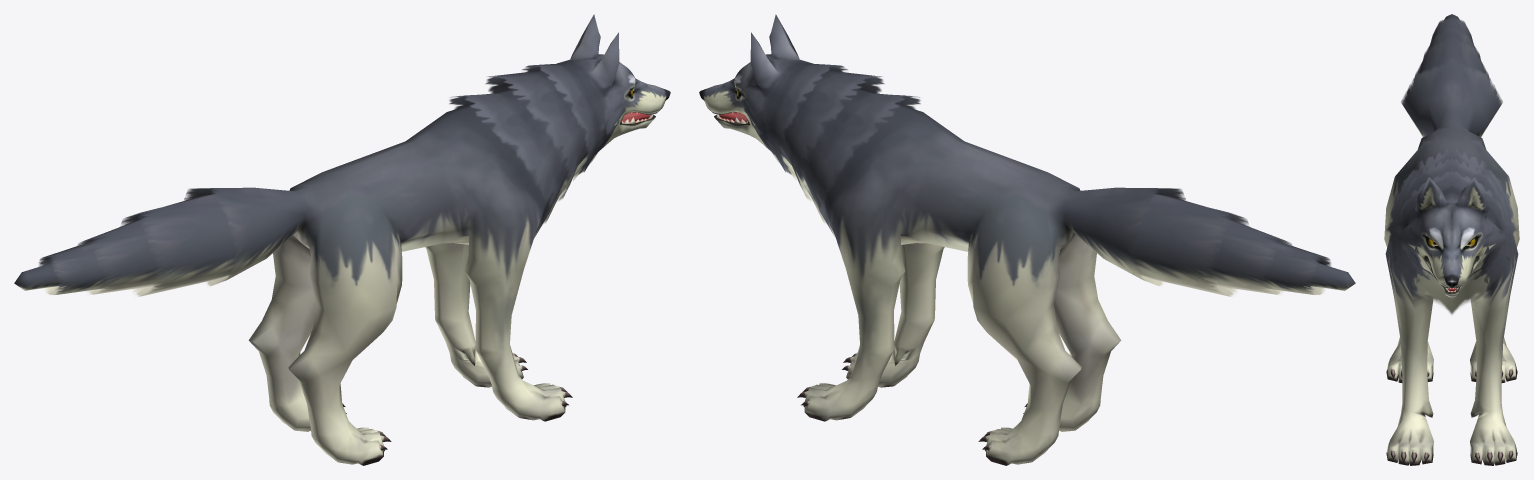
File: vlk_lesni.glb
3 renders of one model, left to right at view 1: azimuth 30°, elevation 25°; view 2: azimuth 150°, elevation 25°; view 3: azimuth 270°, elevation 25°, orthographic. The views are drawn at different scales.
Bounding box in the file's own units: 1.67 × 0.85 × 0.3254.
1 material, 1 textured.
